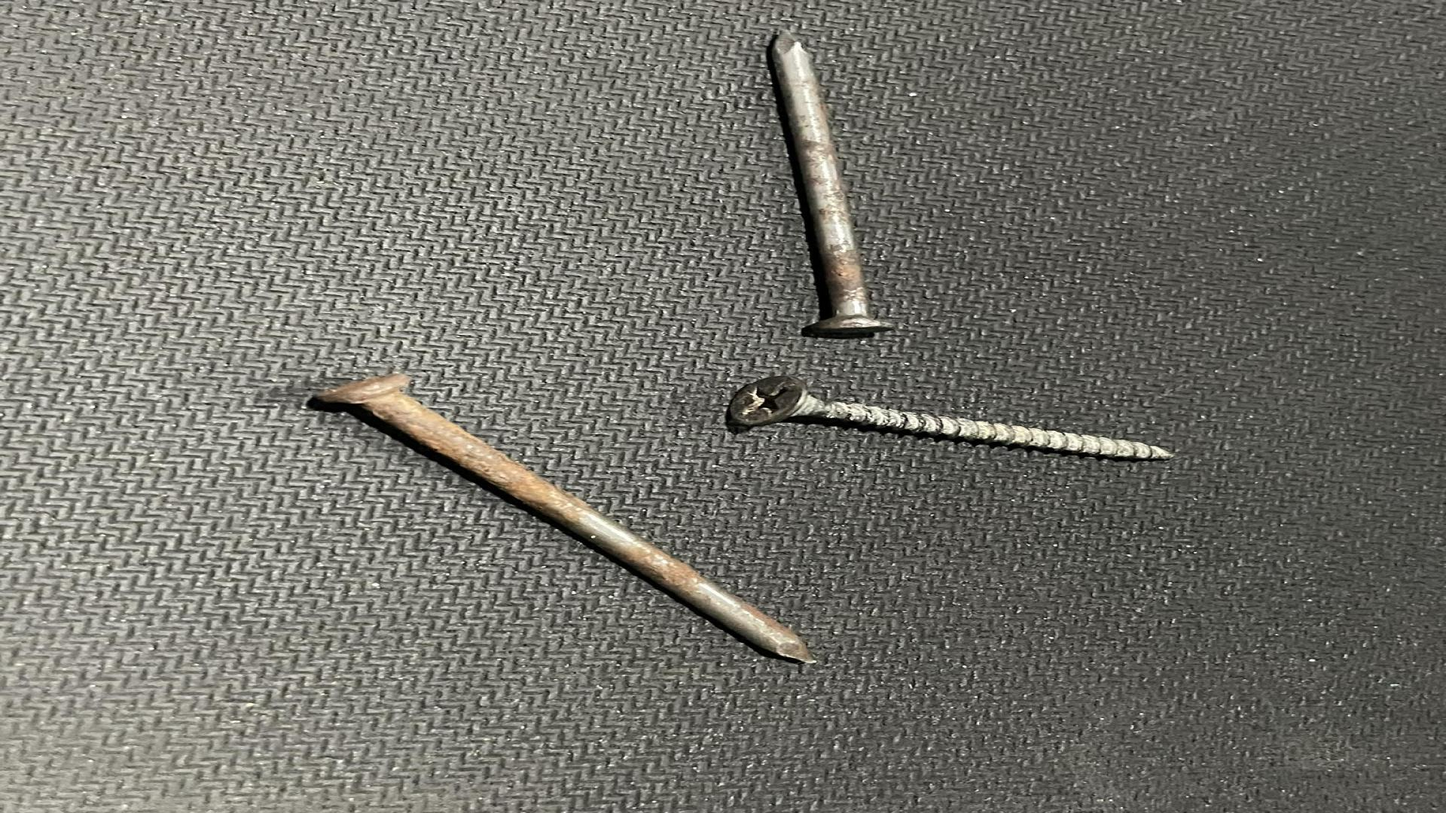nail: (242, 341, 844, 687), (678, 9, 1051, 352)
screw: (672, 373, 1240, 486)
